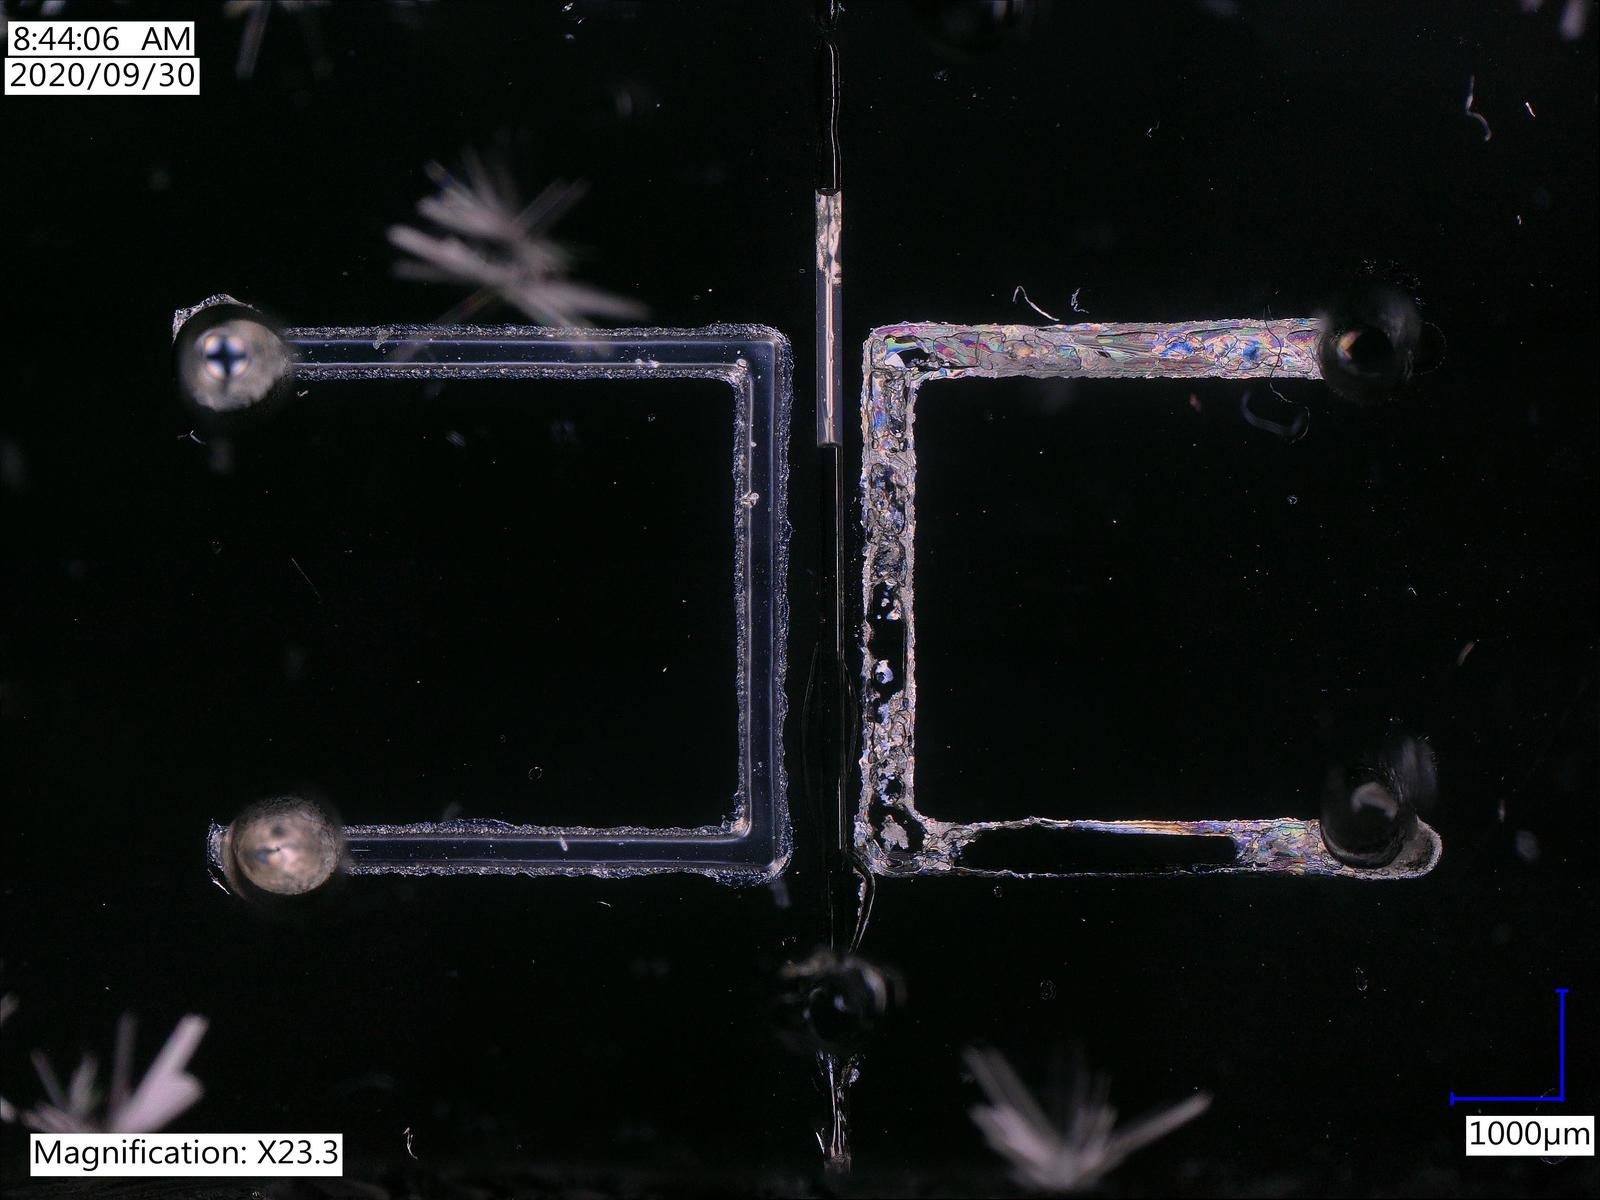sediment: (864, 494, 908, 589), (871, 689, 910, 792), (868, 366, 913, 425), (921, 826, 974, 865), (879, 814, 910, 848)
